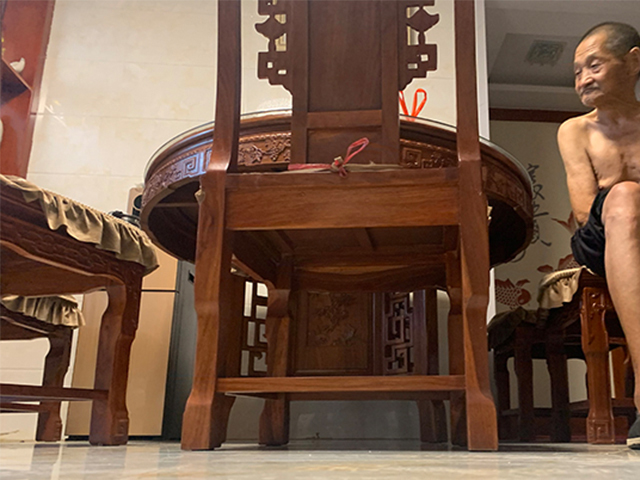stool: (179, 1, 501, 452), (1, 172, 160, 447)
table: (140, 108, 537, 450)
